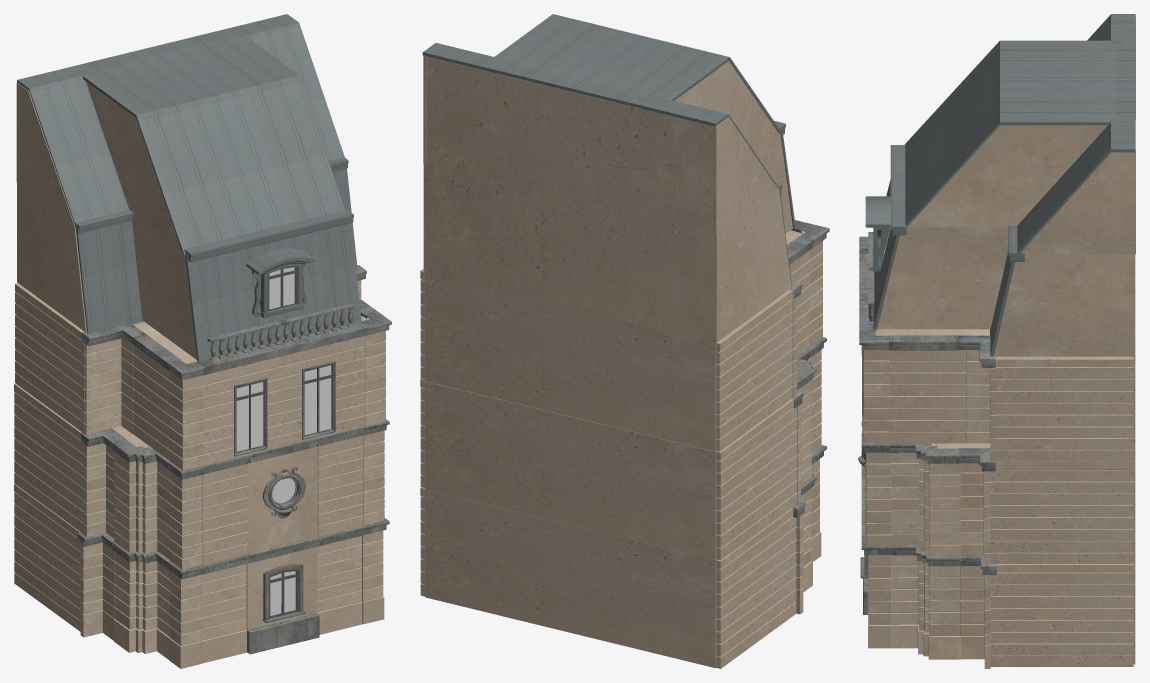
Rendered from house1.glb.
The picture shows the model from 3 angles, left to right: view 1: azimuth 30°, elevation 25°; view 2: azimuth 150°, elevation 25°; view 3: azimuth 270°, elevation 25°; orthographic projection. The views are drawn at different scales.
Parts seen in each view (by area): view 1: rooftop Haussmannien.001_68, roof Haussmannien.001_67, face wall _93, Cube.003_61, wall short side right.004_103, wall short side right.006_18, wall short side right.005_49, wall side roof left.001_75, roof Haussmannien side left_65, wall side roof left_74, wall zigzag side left dawn_50, wall side roof up left_71 (+45 smaller); view 2: wall back 1.004_69, wall back 1.002_11, wall back 1.001_42, wall back 1.003_95, rooftop Haussmannien.001_68, wall short side right.006_18, wall short side right.005_49, wall short side right.004_103, wall side roof left.001_75, wall side roof up left.001_72, wall side roof up left_71, wall side roof left_74 (+9 smaller); view 3: rooftop Haussmannien.001_68, wall short side right.002_17, wall short side right.003_48, wall short side right.001_102, wall side roof left.002_76, wall side roff right_70, wall side roof up right_77, wall side roof up left.002_73, wall short side right_101, wall zigzag side right dawn_51, wall zigzag side right_20, Cube.020_62 (+22 smaller).
Part boxes in pixels (x1=…): rooftop Haussmannien.001_68: x1=71, y1=27, x2=345, y2=255; roof Haussmannien.001_67: x1=185, y1=223, x2=361, y2=361; face wall _93: x1=203, y1=336, x2=365, y2=465; Cube.003_61: x1=17, y1=67, x2=129, y2=228; wall short side right.004_103: x1=15, y1=283, x2=91, y2=435; wall short side right.006_18: x1=14, y1=383, x2=84, y2=533; wall short side right.005_49: x1=14, y1=484, x2=80, y2=631; wall side roof left.001_75: x1=17, y1=183, x2=86, y2=332; roof Haussmannien side left_65: x1=76, y1=221, x2=143, y2=333; wall side roof left_74: x1=132, y1=214, x2=197, y2=359; wall zigzag side left dawn_50: x1=113, y1=552, x2=170, y2=659; wall side roof up left_71: x1=85, y1=81, x2=180, y2=248; wall back 1.004_69: x1=425, y1=56, x2=716, y2=344; wall back 1.002_11: x1=425, y1=381, x2=716, y2=559; wall back 1.001_42: x1=425, y1=489, x2=716, y2=668; wall back 1.003_95: x1=425, y1=273, x2=716, y2=451; rooftop Haussmannien.001_68: x1=481, y1=14, x2=781, y2=133; wall short side right.006_18: x1=716, y1=399, x2=796, y2=560; wall short side right.005_49: x1=716, y1=508, x2=796, y2=668; wall short side right.004_103: x1=716, y1=289, x2=797, y2=451; wall side roof left.001_75: x1=715, y1=189, x2=791, y2=342; wall side roof up left.001_72: x1=713, y1=117, x2=778, y2=234; wall side roof up left_71: x1=675, y1=61, x2=777, y2=149; wall side roof left_74: x1=753, y1=132, x2=792, y2=233; rooftop Haussmannien.001_68: x1=904, y1=40, x2=1135, y2=226; wall short side right.002_17: x1=990, y1=460, x2=1133, y2=563; wall short side right.003_48: x1=990, y1=563, x2=1133, y2=666; wall short side right.001_102: x1=995, y1=356, x2=1133, y2=461; wall side roof left.002_76: x1=994, y1=254, x2=1135, y2=356; wall side roff right_70: x1=877, y1=227, x2=1008, y2=329; wall side roof up right_77: x1=907, y1=125, x2=1107, y2=227; wall side roof up left.002_73: x1=1021, y1=150, x2=1135, y2=254; wall short side right_101: x1=889, y1=350, x2=965, y2=443; wall zigzag side right dawn_51: x1=891, y1=555, x2=960, y2=659; wall zigzag side right_20: x1=891, y1=443, x2=960, y2=556; Cube.020_62: x1=1013, y1=116, x2=1135, y2=257.
Bounding box in the file's own units: 8.4 × 14.13 × 6.89.
5 materials, 4 textured.
